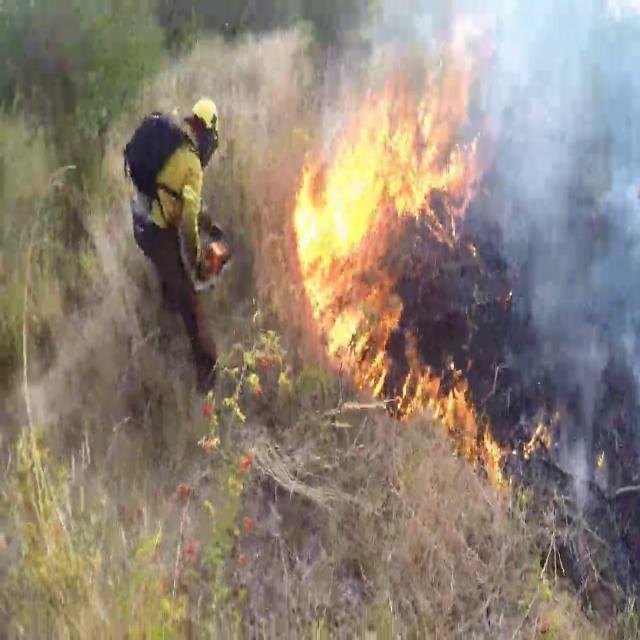Fire: (280, 59, 488, 382), (399, 345, 558, 487)
Smoke: (447, 0, 640, 467)
